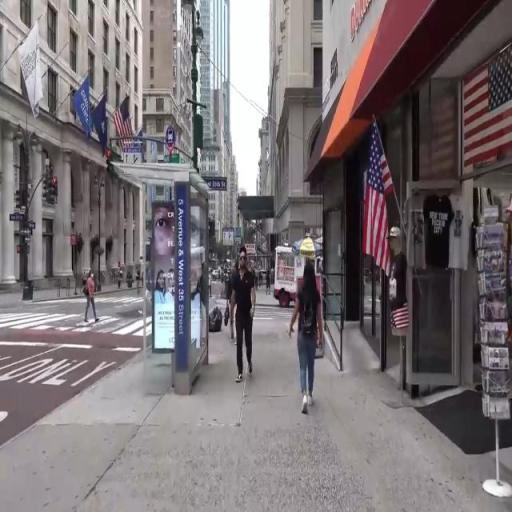person: (290, 263, 324, 415), (231, 248, 257, 384), (85, 273, 100, 324)
